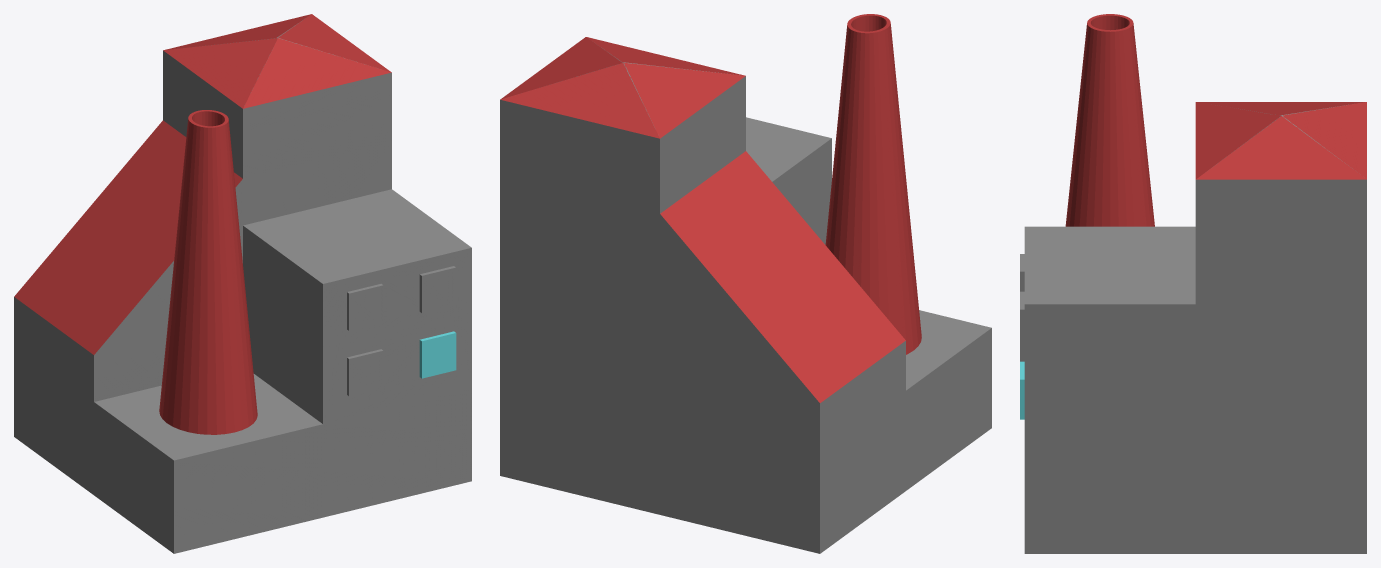
File: Industrial2.fbx
3 views of the same model, side by side, from view 1: azimuth 30°, elevation 25°; view 2: azimuth 150°, elevation 25°; view 3: azimuth 270°, elevation 25° (orthographic). The views are drawn at different scales.
Visible parts, largest first — view 1: Cube; view 2: Cube; view 3: Cube.
Boxes of the visible parts, <box> form: Cube: <box>14,14,471,553</box>; Cube: <box>500,14,991,553</box>; Cube: <box>1020,14,1366,553</box>.
Size of the model in its own units: 2219 by 2759 by 2092.
